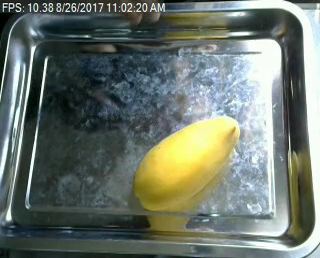Mango: (123, 111, 242, 215)
